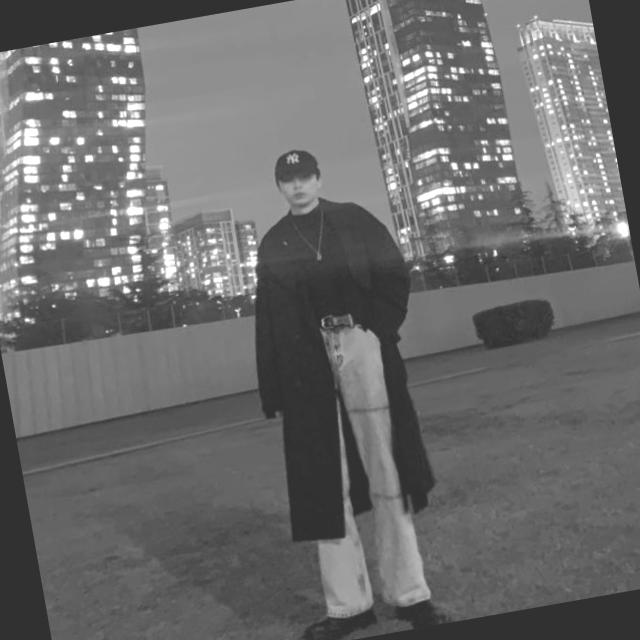coat: (227, 186, 453, 546)
denimpants: (279, 318, 429, 618)
